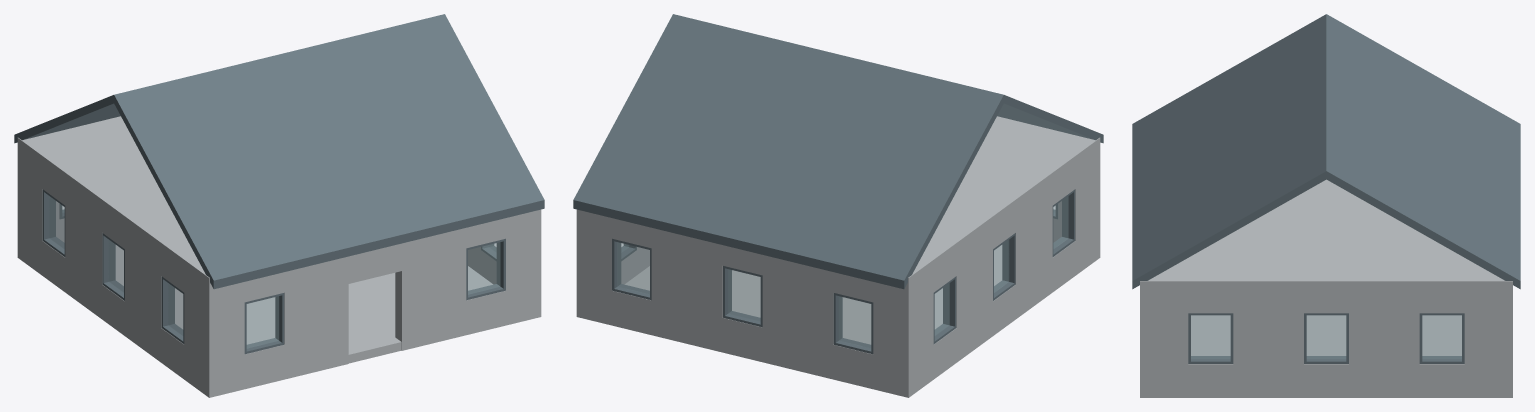
File: house_1_lod1.glb
3 renders of one model, left to right at view 1: azimuth 30°, elevation 25°; view 2: azimuth 150°, elevation 25°; view 3: azimuth 270°, elevation 25°, orthographic. The views are drawn at different scales.
Visible parts, largest first — view 1: Roof shell baked, Wall_0 baked, Wall_3 baked, Ceiling baked, Floor baked, Glazing.001 baked, Glazing baked, Wall_1 baked, Wall_2 baked, Glazing.008 baked, Glazing.009 baked, Glazing.010 baked (+5 smaller); view 2: Roof shell baked, Wall_1 baked, Wall_3 baked, Ceiling baked, Floor baked, Glazing.002 baked, Glazing.003 baked, Glazing.004 baked, Wall_0 baked, Wall_2 baked, Glazing.010 baked, Glazing.009 baked (+6 smaller); view 3: Roof shell baked, Wall_2 baked, Ceiling baked, Floor baked, Glazing.005 baked, Glazing.007 baked, Glazing.006 baked, Wall_0 baked, Wall_1 baked.
Boxes of the visible parts, x1,y1,x2,y2 form: Roof shell baked: [14, 14, 544, 289]; Wall_0 baked: [202, 209, 541, 397]; Wall_3 baked: [24, 151, 202, 392]; Ceiling baked: [17, 116, 211, 286]; Floor baked: [115, 245, 492, 363]; Glazing.001 baked: [468, 242, 500, 294]; Glazing baked: [247, 296, 278, 348]; Wall_1 baked: [17, 147, 64, 261]; Wall_2 baked: [468, 247, 496, 284]; Glazing.008 baked: [49, 197, 64, 248]; Glazing.009 baked: [109, 240, 123, 292]; Glazing.010 baked: [168, 283, 182, 335]; Roof shell baked: [573, 14, 1103, 289]; Wall_1 baked: [576, 209, 915, 397]; Wall_3 baked: [915, 151, 1093, 392]; Ceiling baked: [906, 116, 1100, 286]; Floor baked: [625, 245, 1002, 344]; Glazing.002 baked: [617, 242, 649, 294]; Glazing.003 baked: [728, 269, 760, 320]; Glazing.004 baked: [839, 296, 870, 347]; Wall_0 baked: [1053, 147, 1100, 261]; Wall_2 baked: [621, 247, 649, 284]; Glazing.010 baked: [1053, 196, 1068, 248]; Glazing.009 baked: [994, 240, 1008, 292]; Roof shell baked: [1132, 14, 1520, 289]; Wall_2 baked: [1153, 289, 1499, 397]; Ceiling baked: [1140, 179, 1512, 289]; Floor baked: [1191, 315, 1461, 355]; Glazing.005 baked: [1191, 315, 1230, 358]; Glazing.007 baked: [1422, 315, 1461, 358]; Glazing.006 baked: [1307, 315, 1345, 358]; Wall_0 baked: [1140, 289, 1152, 397]; Wall_1 baked: [1500, 289, 1512, 397].
Size of the model in its own units: 10 by 6.7 by 10.4.
